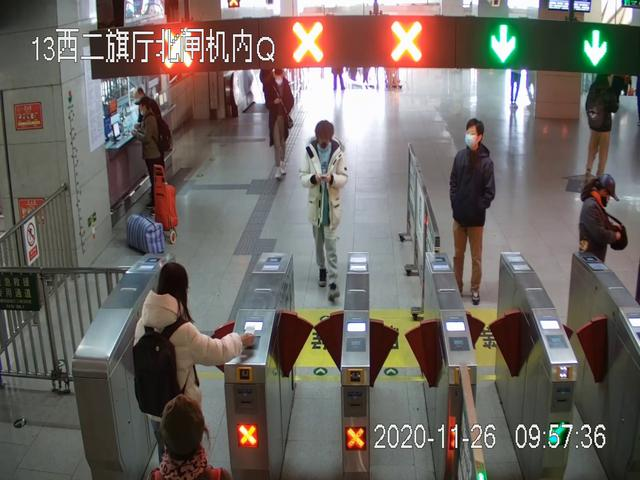person: (132, 262, 253, 480), (449, 118, 497, 305), (299, 120, 348, 303), (579, 173, 628, 307), (584, 71, 621, 178), (133, 96, 168, 205), (267, 67, 293, 179)
